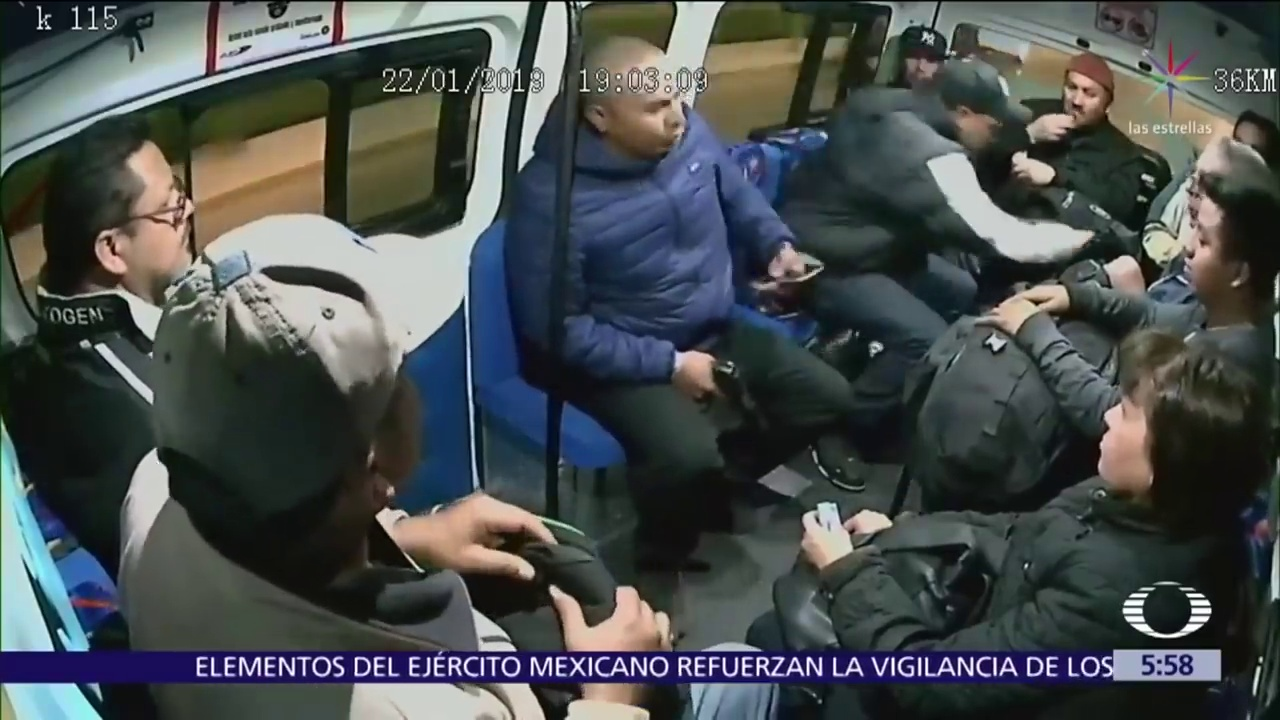pistol: (692, 359, 762, 421)
